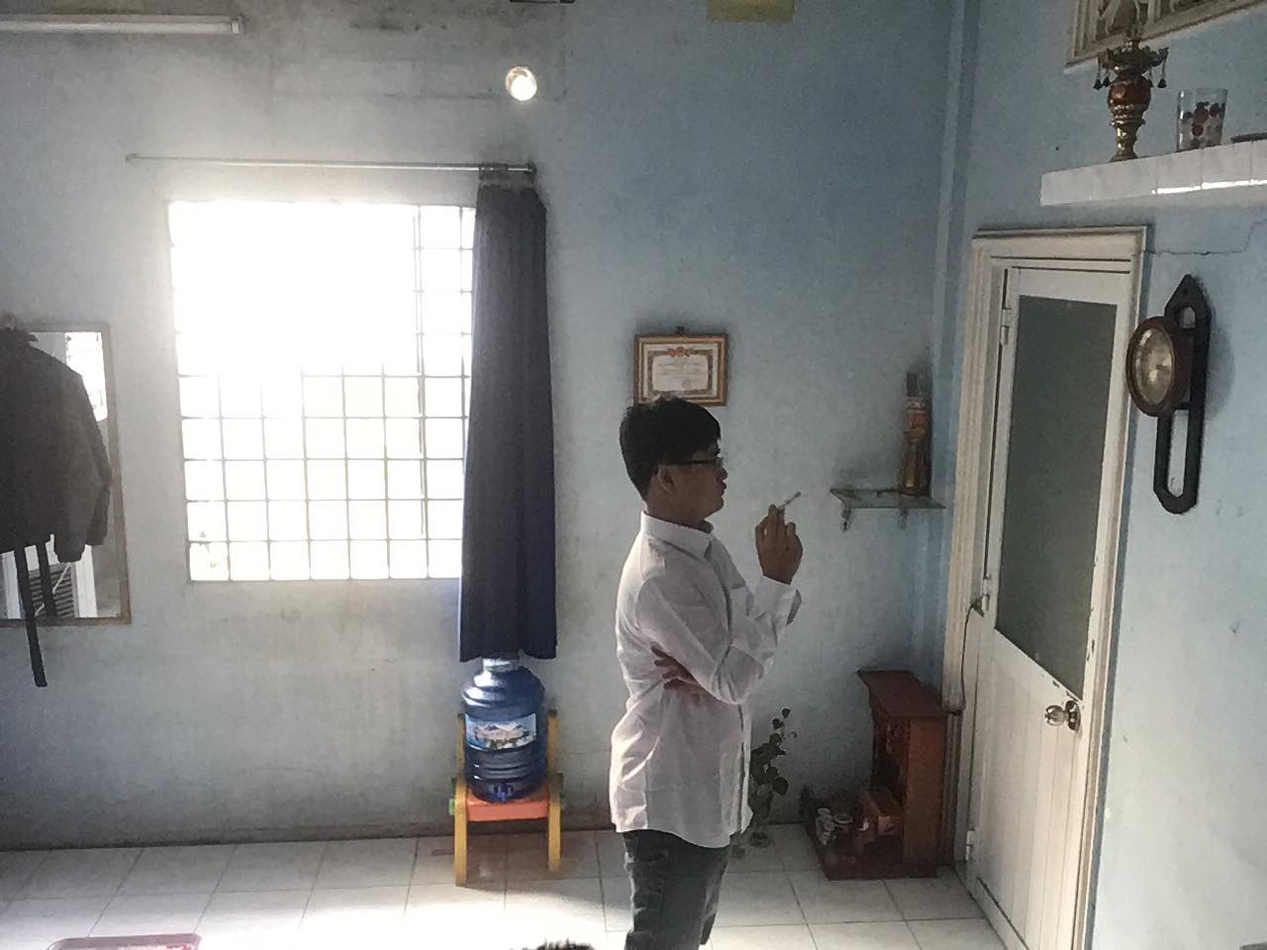cigarette: (773, 484, 807, 518)
person: (562, 370, 833, 950)
